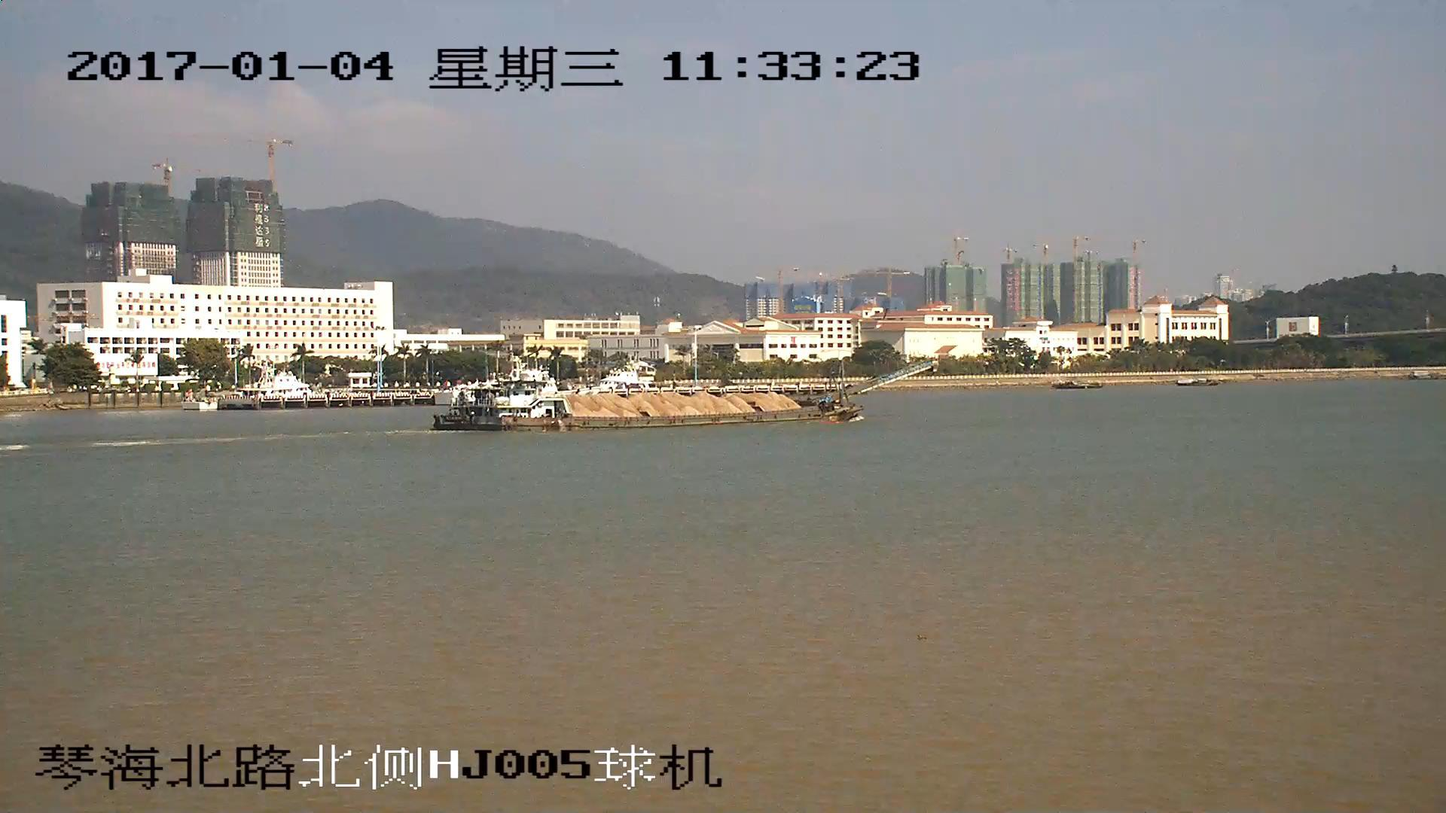ore carrier: (432, 361, 935, 432)
